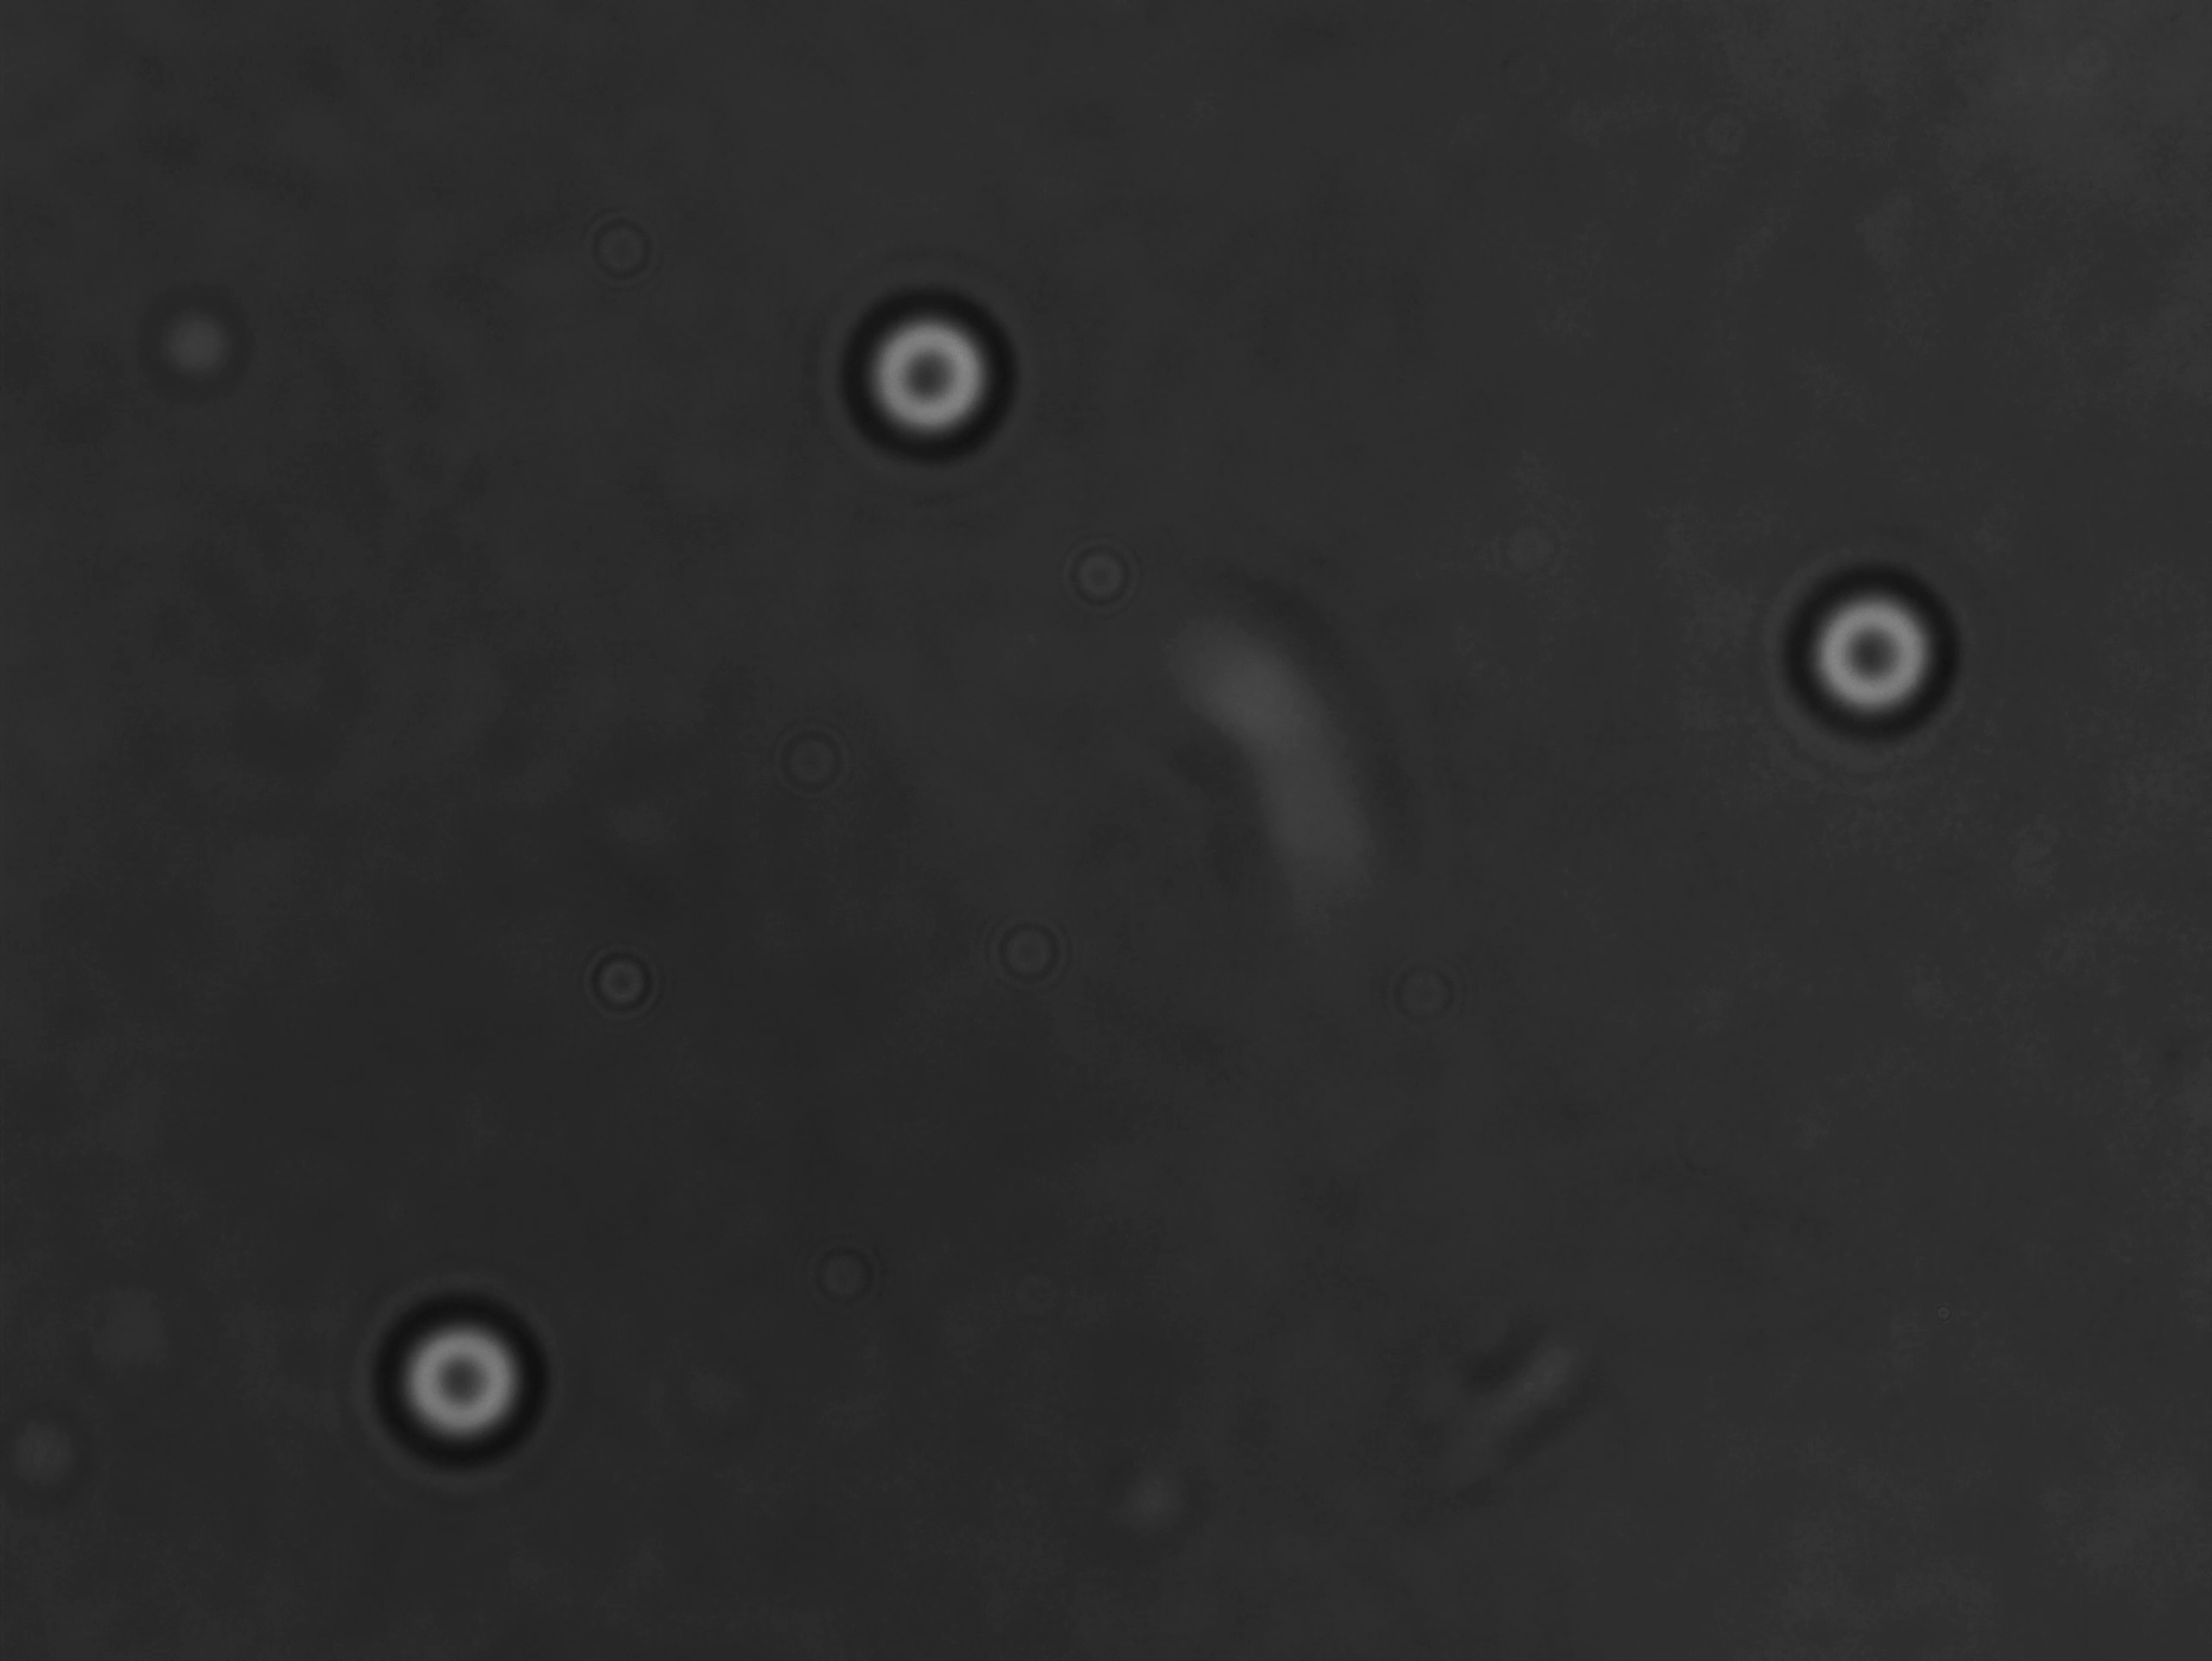depth:80: (330, 1261, 584, 1485), (1765, 541, 1989, 761), (830, 270, 1047, 476)
